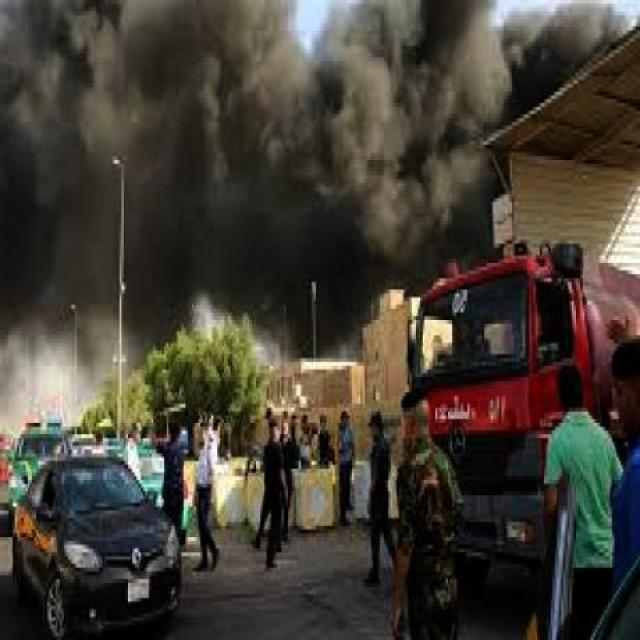Smoke: (0, 4, 459, 326), (470, 8, 578, 98)
